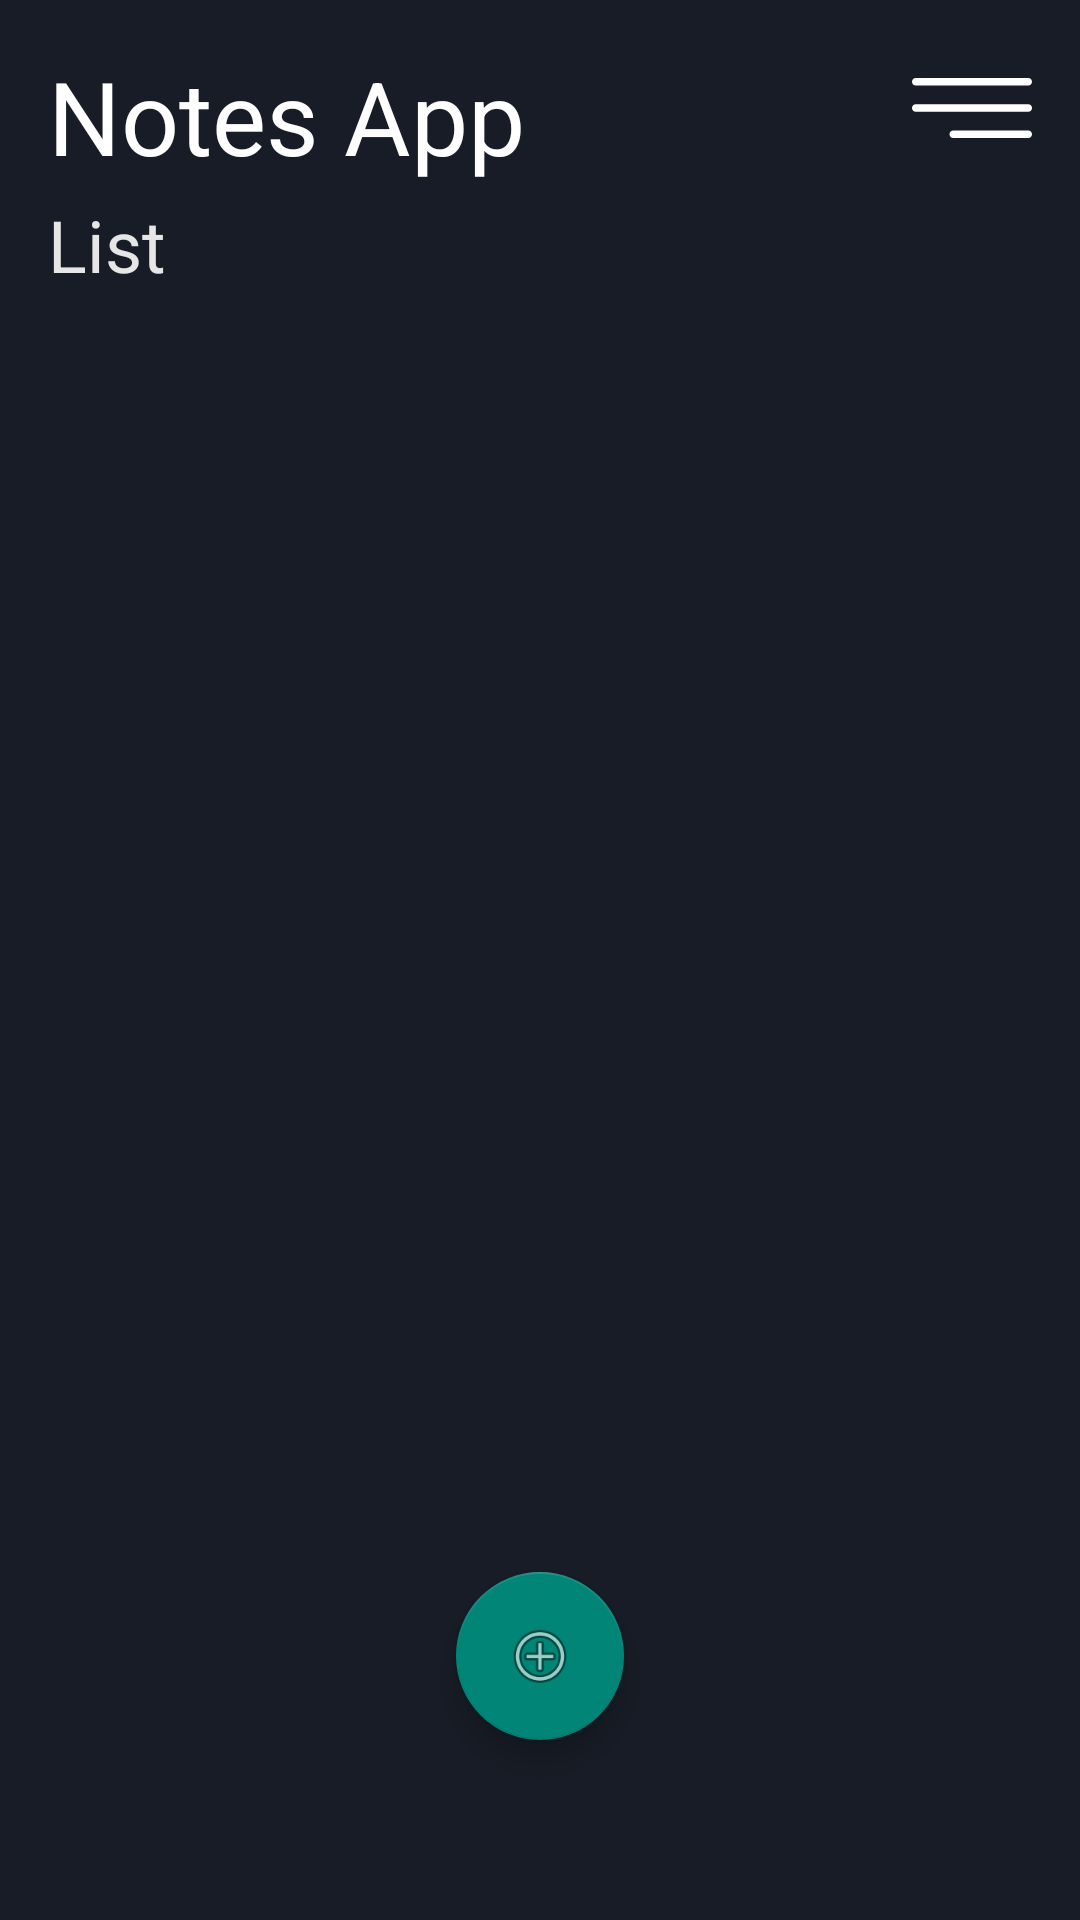

Screen size 1080w x 1920h. Icon name, then its box in pixels as (x1, y1, x2, y2):
Add Note: (456, 1572, 624, 1740)
menu: (912, 78, 1032, 138)
